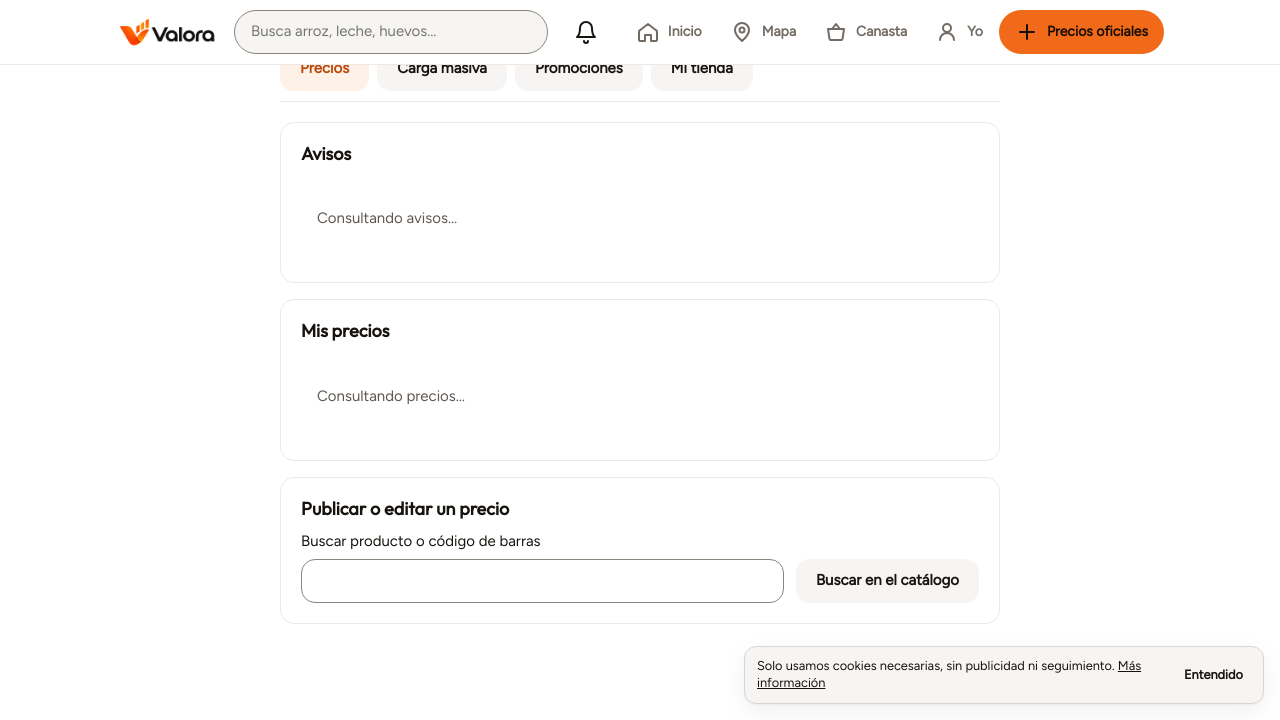
Test: panel de precios oficiales (#166) › publica un precio tras buscar y elegir una presentación del catálogo
(page scrolled)
In the search field labelled "Buscar producto o código de barras": (542, 581) [301,559,784,603], type "Arroz"
(page scrolled)
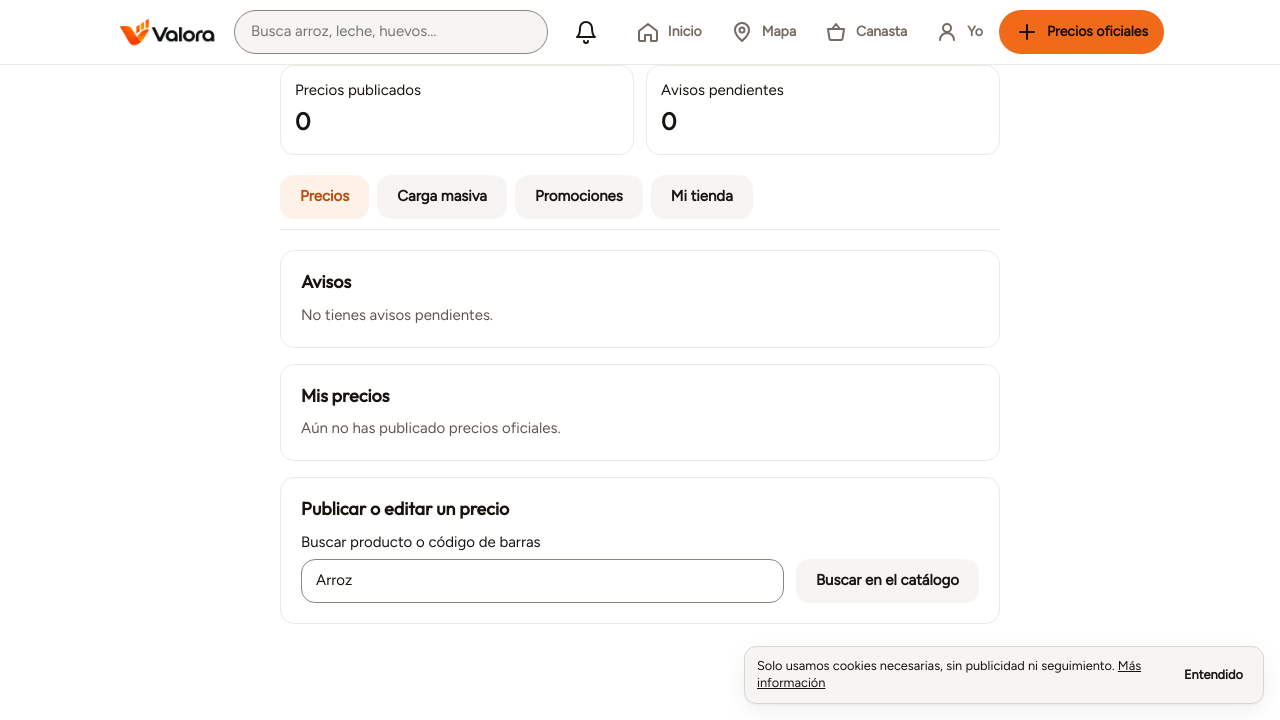
Click the button "Buscar en el catálogo": (887, 581) [796,559,979,603]
(page scrolled)
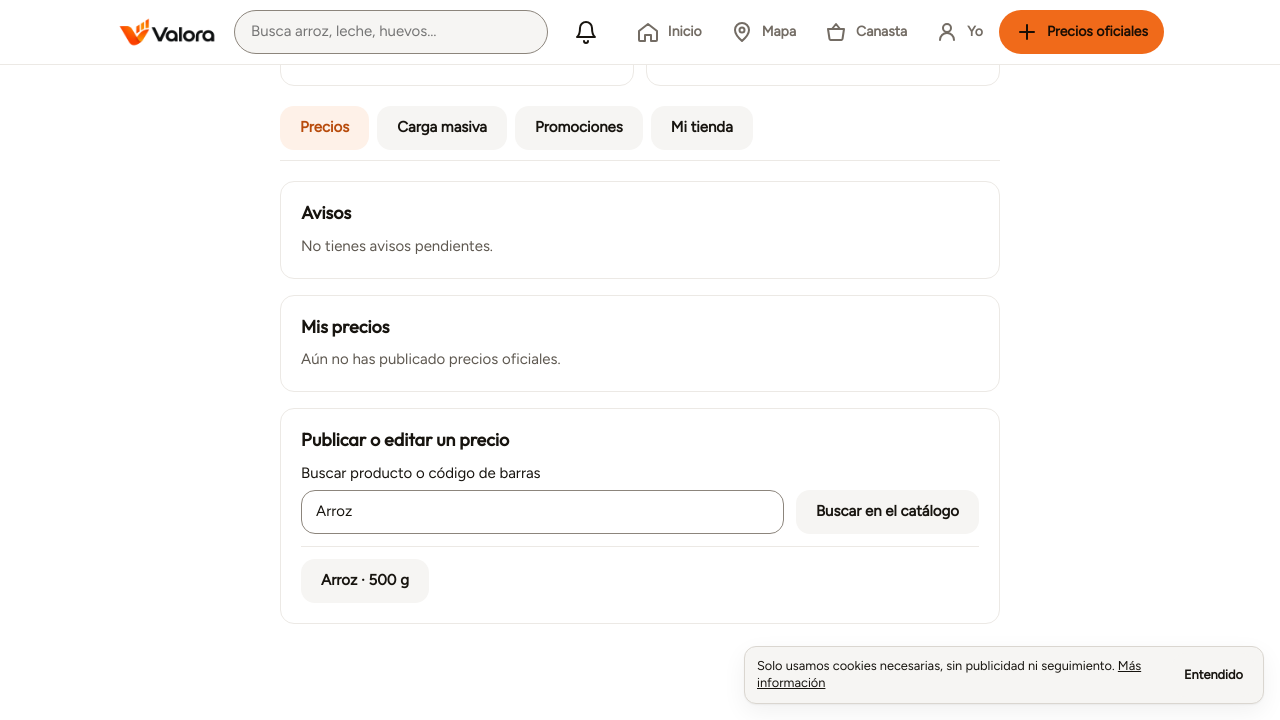
Expected: the search field labelled "Buscar producto o código de barras" is enabled, [301,490,784,534]
Click the button "Arroz · 500 g": (365, 581) [301,559,429,603]
(page scrolled)
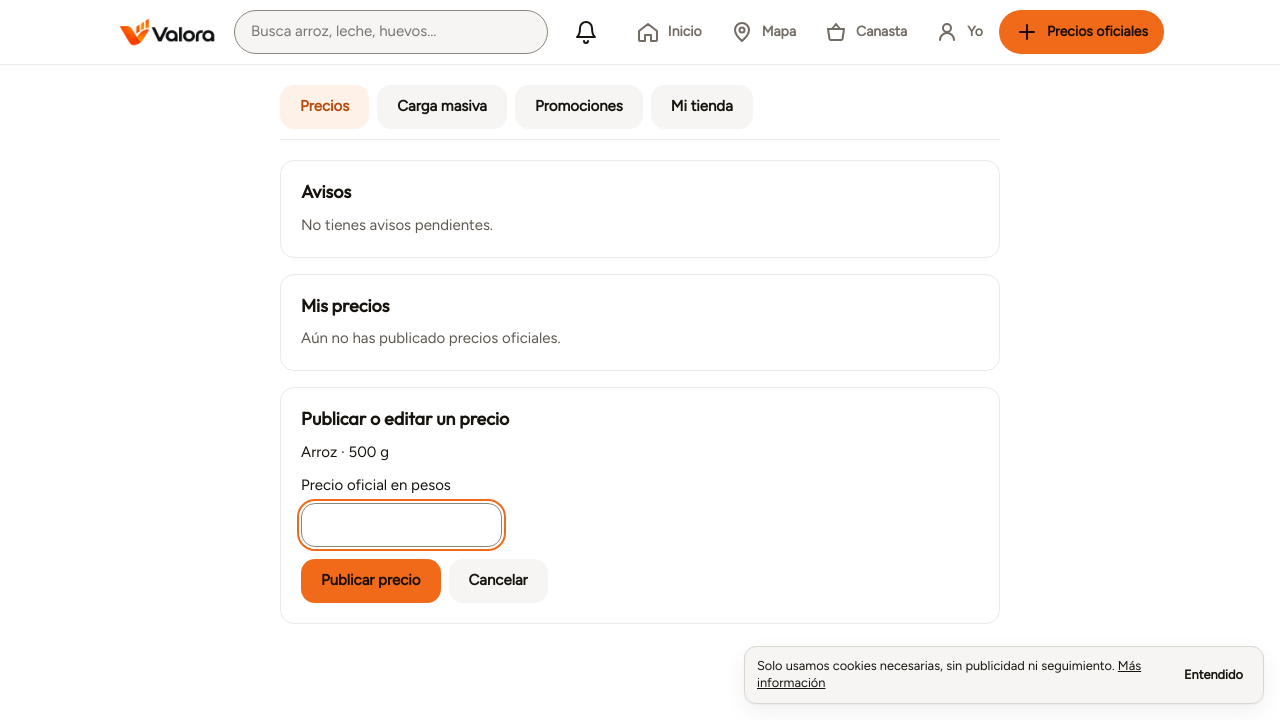
In the field labelled "Precio oficial en pesos": (402, 525) [301,503,502,547], type "2200"
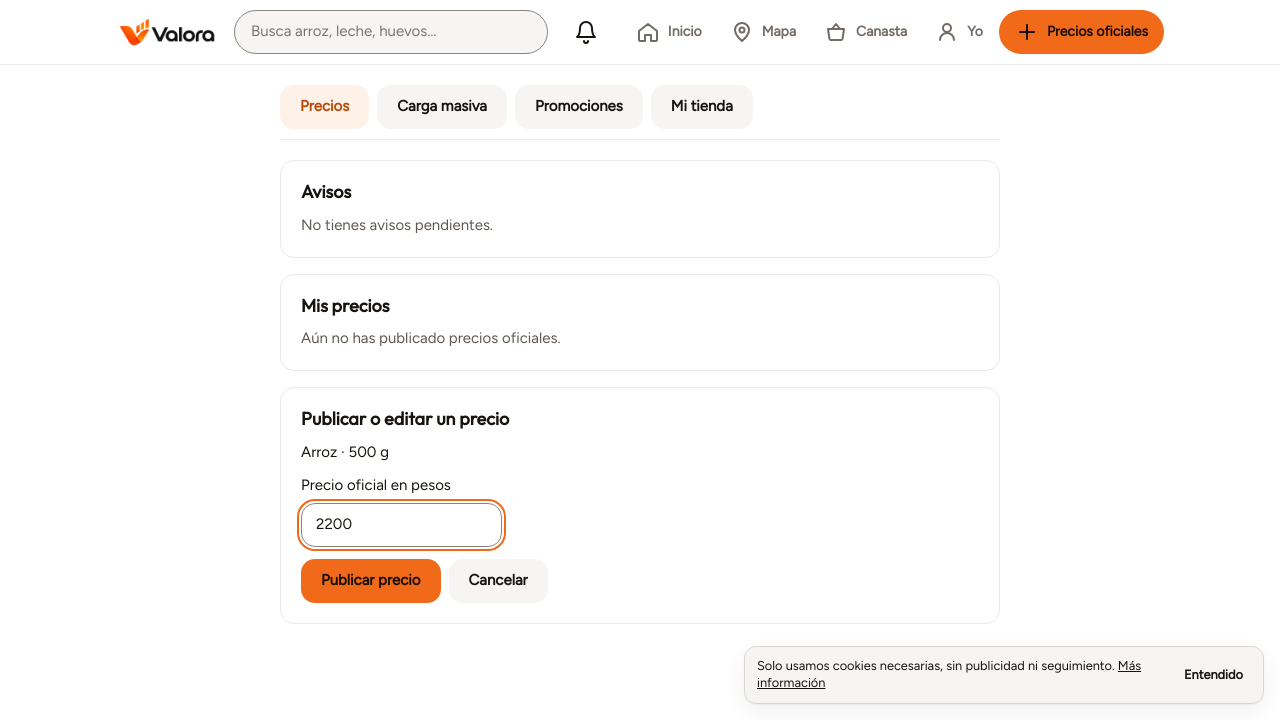
Click the button "Publicar precio": (371, 581) [301,559,440,603]
(page scrolled)
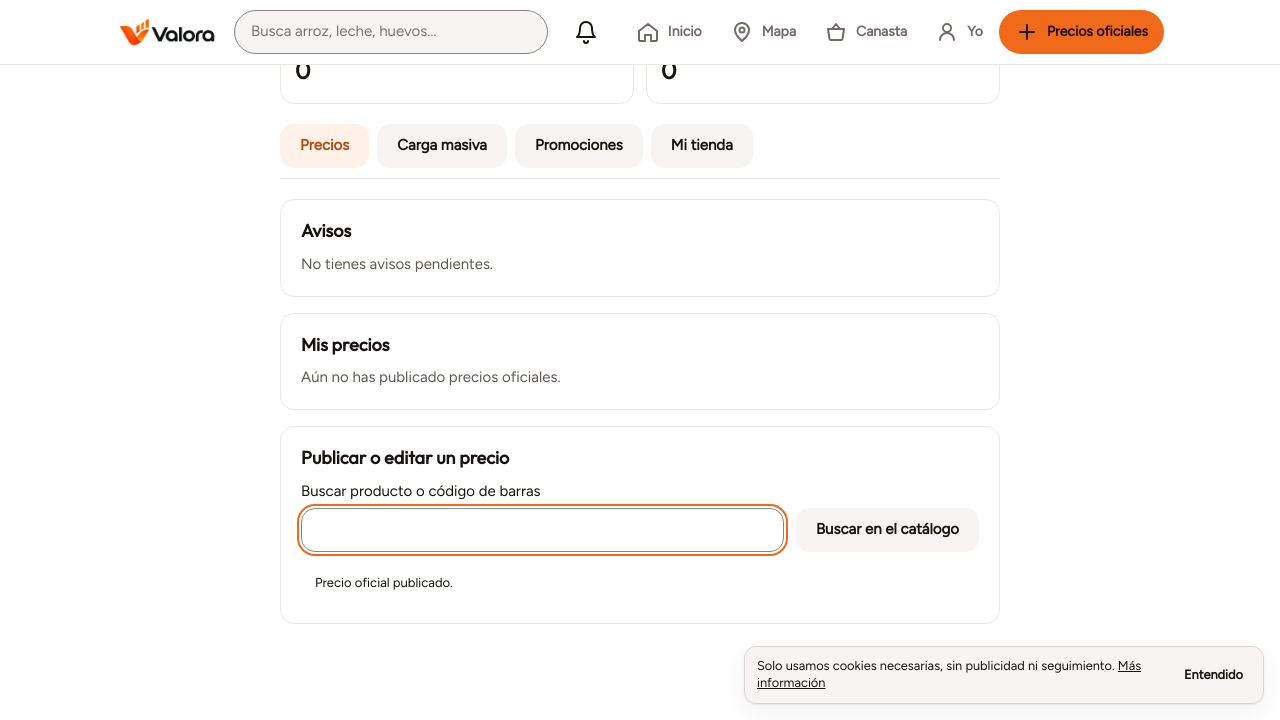
Expected: the text "Precio oficial publicado." is shown, [315,575,453,590]
# El aviso de éxito es de esta acción: no sigue visible al pasar a otra sección.
Click the tab "Carga masiva": (442, 146) [377,124,507,168]
(page scrolled)
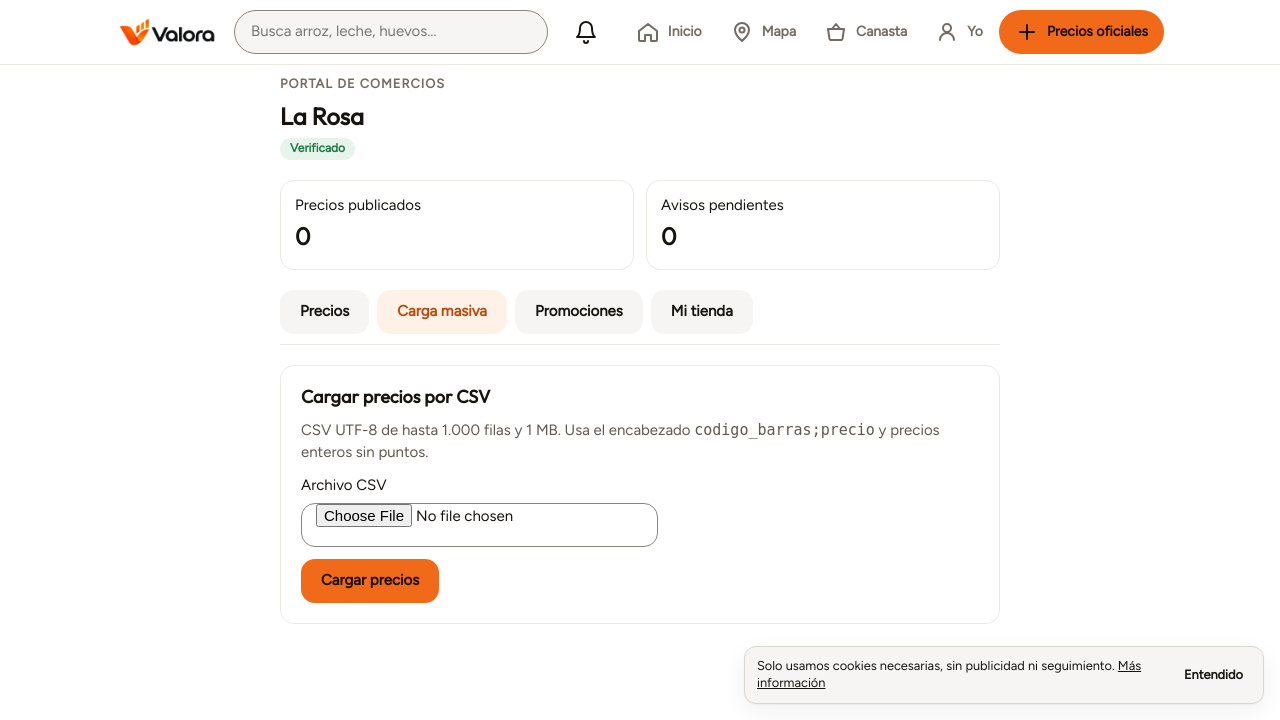
Expected: the text "Precio oficial publicado." is gone
